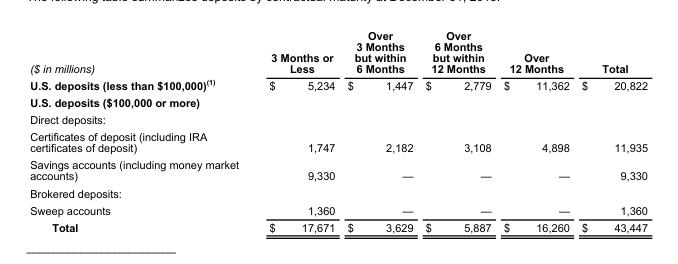table: (29, 29, 646, 233)
table column: (29, 29, 253, 233), (253, 29, 340, 233), (340, 29, 418, 233), (418, 29, 496, 233), (496, 29, 574, 233), (574, 29, 646, 233)
table column header: (29, 29, 646, 75)
table projected row header: (29, 110, 646, 128), (29, 93, 646, 110), (29, 184, 646, 201)
table row: (29, 29, 646, 75), (29, 128, 646, 156), (29, 156, 646, 184), (29, 75, 646, 93), (29, 110, 646, 128), (29, 93, 646, 110), (29, 184, 646, 201), (29, 201, 646, 218), (29, 218, 646, 233)
